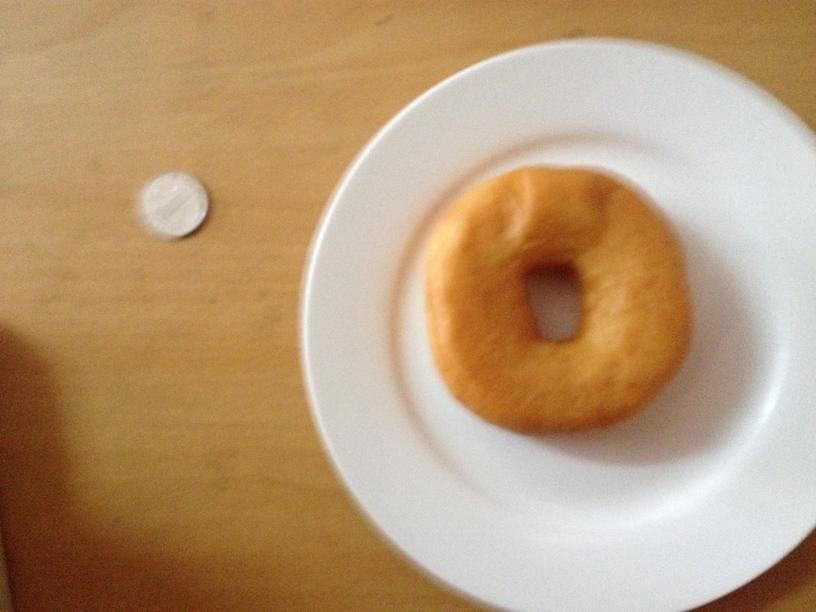coin: (420, 165, 688, 433)
doughnut: (420, 165, 688, 433)
